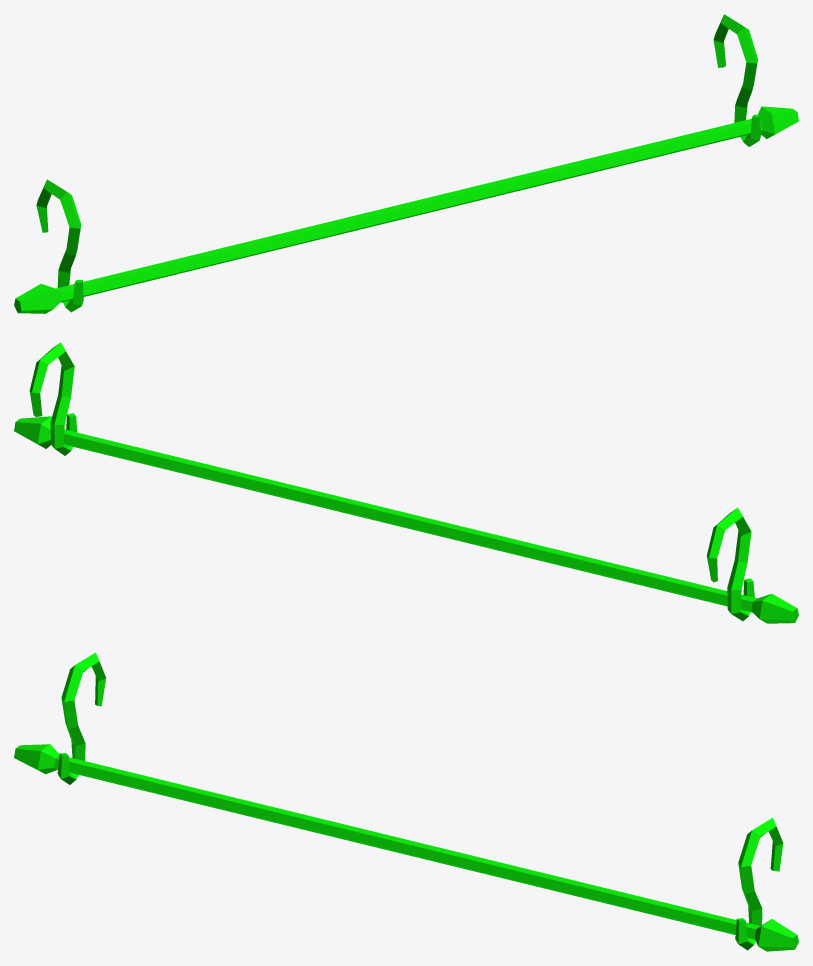
Rendered from SM_Market_Stall_Hanger.fbx.
The picture shows the model from 3 angles, top to bottom: view 1: azimuth 30°, elevation 25°; view 2: azimuth 150°, elevation 25°; view 3: azimuth 330°, elevation 25°; orthographic projection.
Visible parts, largest first — view 1: market-stall-hanger; view 2: market-stall-hanger; view 3: market-stall-hanger.
Part boxes in pixels (bbox=[...]): market-stall-hanger: bbox=[14, 14, 798, 313]; market-stall-hanger: bbox=[14, 342, 798, 623]; market-stall-hanger: bbox=[14, 652, 798, 951].
Size of the model in its own units: 2.15 by 0.3088 by 0.2081.
